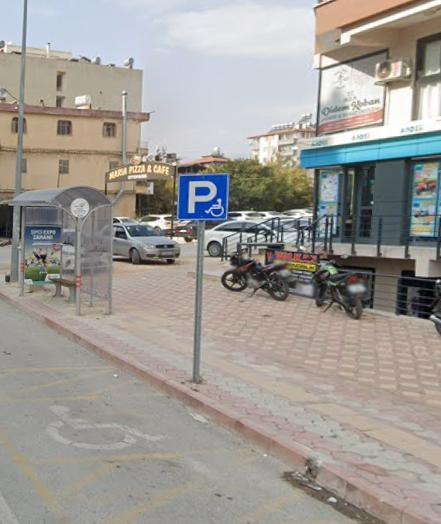disabledpark: (179, 173, 230, 219)
